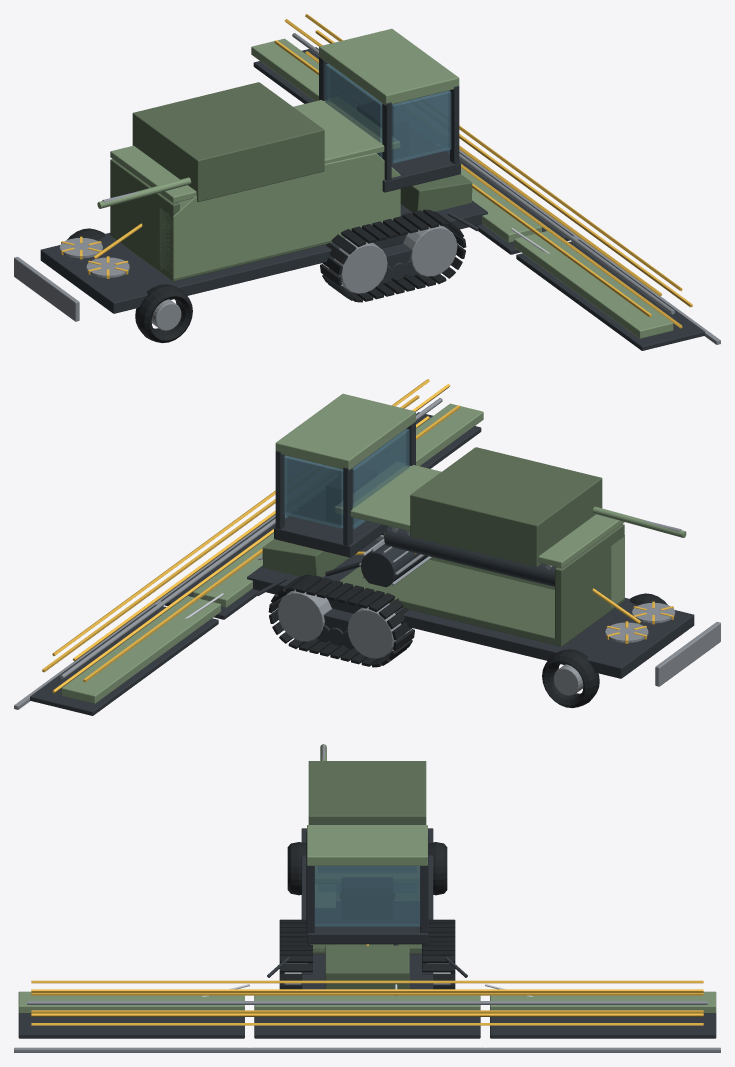
The model's file is claas-lexion-8900-terra-trac-structural-study.glb.
The picture shows the model from 3 angles, top to bottom: view 1: azimuth 30°, elevation 25°; view 2: azimuth 150°, elevation 25°; view 3: azimuth 270°, elevation 25°; orthographic projection. The views are drawn at different scales.
Visible parts, largest first — view 1: Separator_Right_Shell, Grain_Tank, Carrier_Frame, Cab_Roof, Separator_Top_Cover, CONVIO_R_Back_Frame, Separator_Rear_Bulkhead, Cab_R_Glass, CONVIO_R_Draper_Belt, Cab_Floor, Cab_Rear_Glass, CONVIO_L_Back_Frame (+22 smaller); view 2: Grain_Tank, Separator_Lower_Rail, Carrier_Frame, Cab_Roof, Separator_Top_Cover, CONVIO_L_Back_Frame, Separator_Rear_Bulkhead, Cab_L_Glass, Cab_Floor, CONVIO_L_Draper_Belt, ROTO_PLUS_L_445x4200, Cab_Rear_Glass (+24 smaller); view 3: Grain_Tank, Cab_Front_Glass, Cab_Roof, CONVIO_L_Draper_Belt, CONVIO_R_Draper_Belt, CONVIO_Center_Draper_Belt, Cab_Floor, Feederhouse, CONVIO_L_Back_Frame, CONVIO_R_Back_Frame, CONVIO_Reel_Axle, CONVIO_Center_Back_Frame (+17 smaller).
Boxes of the visible parts, bbox=[...] form: Separator_Right_Shell: bbox=[159, 153, 400, 279]; Grain_Tank: bbox=[132, 82, 324, 202]; Carrier_Frame: bbox=[40, 200, 487, 313]; Cab_Roof: bbox=[319, 28, 459, 105]; Separator_Top_Cover: bbox=[110, 97, 399, 203]; CONVIO_R_Back_Frame: bbox=[514, 231, 673, 338]; Separator_Rear_Bulkhead: bbox=[110, 159, 179, 274]; Cab_R_Glass: bbox=[391, 90, 451, 163]; CONVIO_R_Draper_Belt: bbox=[516, 239, 704, 350]; Cab_Floor: bbox=[382, 126, 460, 192]; Cab_Rear_Glass: bbox=[325, 63, 382, 157]; CONVIO_L_Back_Frame: bbox=[251, 38, 318, 101]; Grain_Tank: bbox=[410, 447, 602, 567]; Separator_Lower_Rail: bbox=[339, 559, 624, 646]; Carrier_Frame: bbox=[247, 540, 694, 678]; Cab_Roof: bbox=[275, 393, 415, 470]; Separator_Top_Cover: bbox=[335, 462, 624, 568]; CONVIO_L_Back_Frame: bbox=[61, 596, 220, 703]; Separator_Rear_Bulkhead: bbox=[555, 524, 624, 641]; Cab_L_Glass: bbox=[283, 455, 343, 528]; Cab_Floor: bbox=[274, 491, 388, 557]; CONVIO_L_Draper_Belt: bbox=[30, 604, 218, 715]; ROTO_PLUS_L_445x4200: bbox=[384, 526, 556, 586]; Cab_Rear_Glass: bbox=[352, 428, 409, 529]; Grain_Tank: bbox=[308, 761, 426, 824]; Cab_Front_Glass: bbox=[314, 866, 420, 926]; Cab_Roof: bbox=[307, 825, 427, 865]; CONVIO_L_Draper_Belt: bbox=[490, 1013, 716, 1038]; CONVIO_R_Draper_Belt: bbox=[18, 1013, 244, 1038]; CONVIO_Center_Draper_Belt: bbox=[254, 1017, 480, 1038]; Cab_Floor: bbox=[307, 901, 427, 944]; Feederhouse: bbox=[325, 945, 409, 989]; CONVIO_L_Back_Frame: bbox=[490, 991, 716, 1013]; CONVIO_R_Back_Frame: bbox=[18, 991, 244, 1013]; CONVIO_Reel_Axle: bbox=[27, 1001, 707, 1004]; CONVIO_Center_Back_Frame: bbox=[254, 995, 480, 1010].
Size of the model in its own units: 10.75 by 4 by 15.3.
